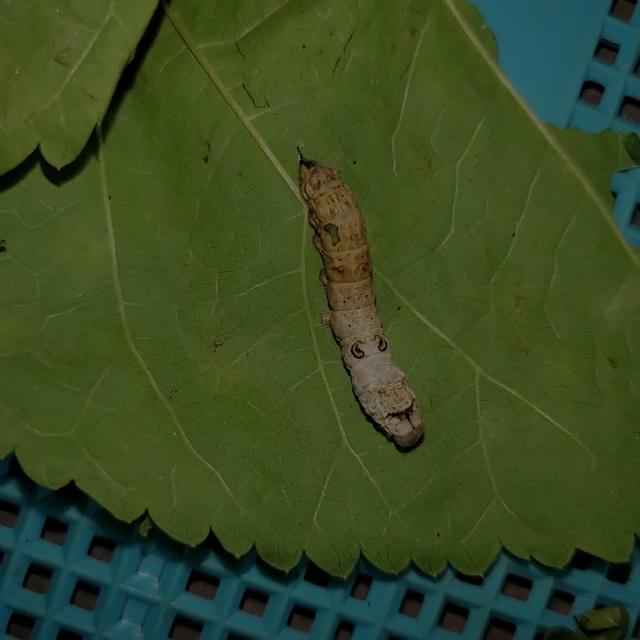Grasserie: (276, 118, 443, 484)
